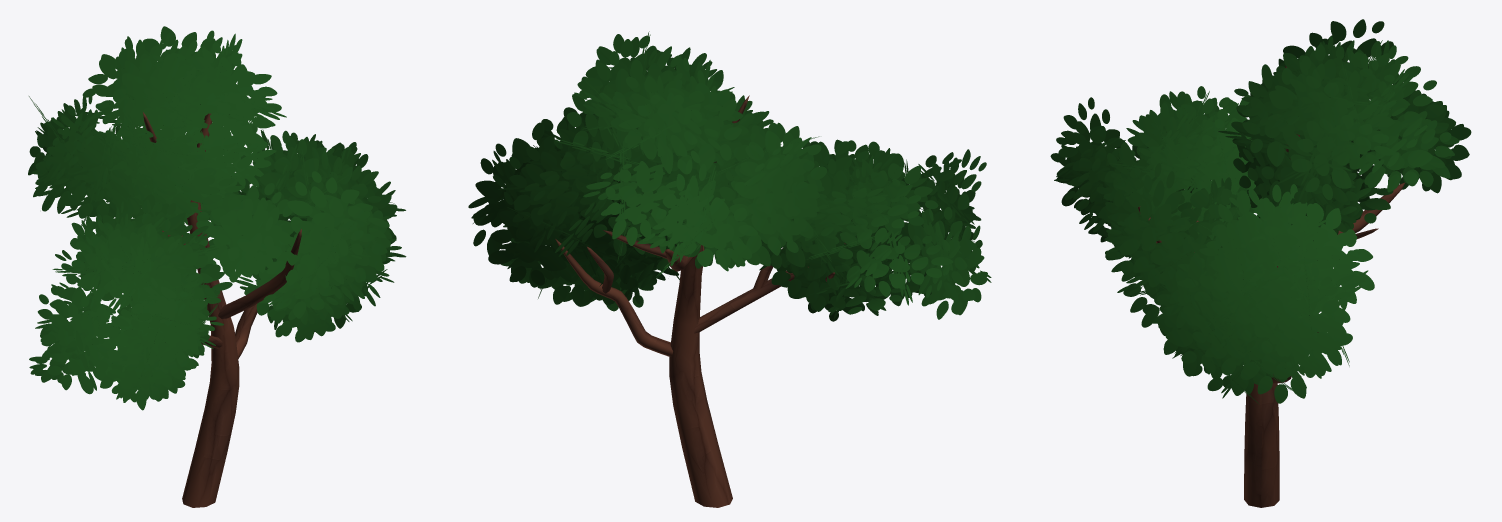
The model's file is normal_tree_5.glb.
3 views of the same model, side by side, from view 1: azimuth 30°, elevation 25°; view 2: azimuth 150°, elevation 25°; view 3: azimuth 270°, elevation 25° (orthographic). The views are drawn at different scales.
Parts seen in each view (by area): view 1: NormalTree_52; view 2: NormalTree_52; view 3: NormalTree_52.
Part boxes in pixels (x1,y1,x2,y2): NormalTree_52: (28, 26, 406, 507); NormalTree_52: (468, 31, 991, 507); NormalTree_52: (1050, 19, 1471, 507).
Bounding box in the file's own units: 3.1 × 2.98 × 2.57.
2 materials, 2 textured.
